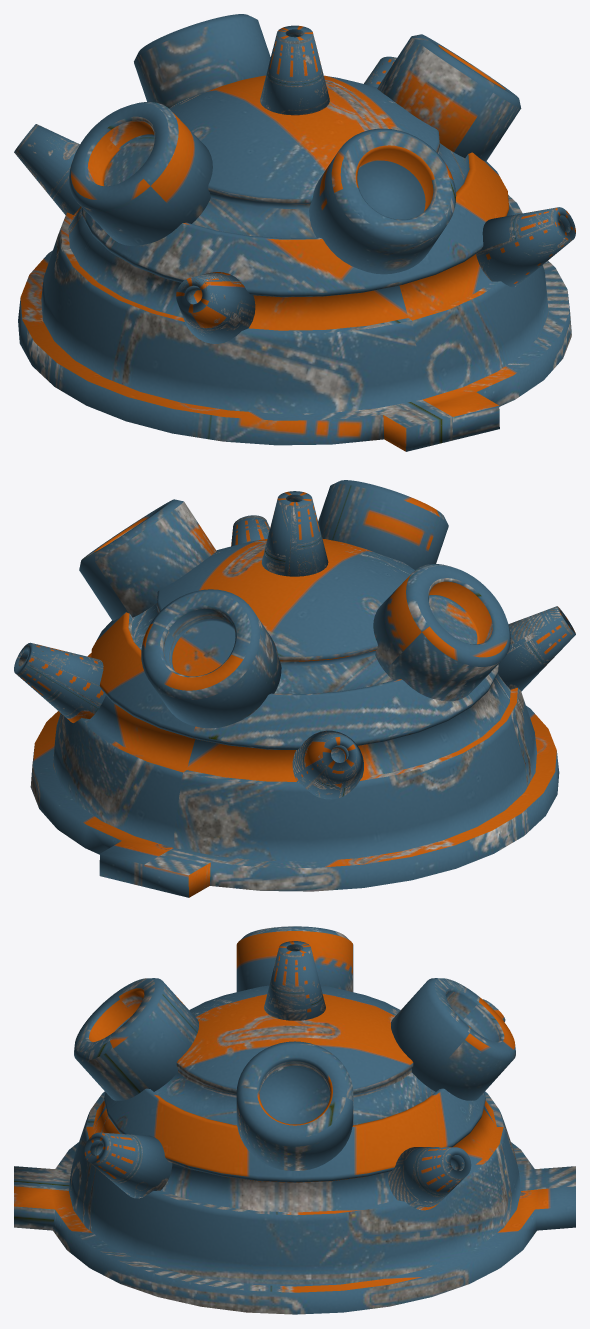
Rendered from Modelo Puzzle 2.glb.
3 renders of one model, top to bottom at view 1: azimuth 30°, elevation 25°; view 2: azimuth 150°, elevation 25°; view 3: azimuth 270°, elevation 25°, orthographic. The views are drawn at different scales.
Visible parts, largest first — view 1: 568; view 2: 568; view 3: 568.
Boxes of the visible parts, bbox=[...] form: 568: bbox=[14, 14, 575, 451]; 568: bbox=[14, 480, 575, 897]; 568: bbox=[14, 926, 575, 1314].
Bounding box in the file's own units: 5.1 × 2.99 × 5.8.
Materials: 2 (2 with a texture image).
